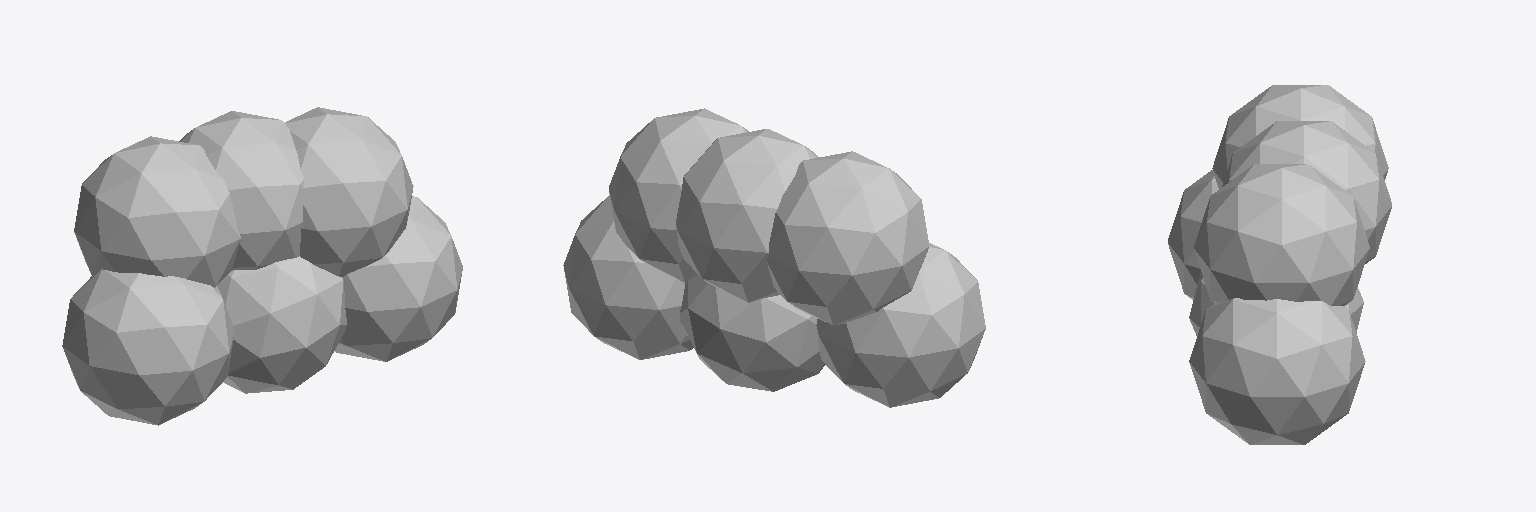
Rendered from cloud.obj.
3 renders of one model, left to right at view 1: azimuth 30°, elevation 25°; view 2: azimuth 150°, elevation 25°; view 3: azimuth 270°, elevation 25°, orthographic.
Parts seen in each view (by area): view 1: Icosphere, Icosphere.001, Icosphere.004, Icosphere.005, Icosphere.002, Icosphere.003; view 2: Icosphere.001, Icosphere, Icosphere.003, Icosphere.002, Icosphere.004, Icosphere.005; view 3: Icosphere.002, Icosphere.004, Icosphere.003, Icosphere.001, Icosphere, Icosphere.005.
Part boxes in pixels (left/top/right/bottom): Icosphere: left=62, top=269, right=233, bottom=425; Icosphere.001: left=74, top=136, right=240, bottom=287; Icosphere.004: left=285, top=107, right=413, bottom=276; Icosphere.005: left=217, top=256, right=346, bottom=393; Icosphere.002: left=335, top=196, right=462, bottom=361; Icosphere.003: left=179, top=111, right=303, bottom=270; Icosphere.001: left=767, top=151, right=928, bottom=325; Icosphere: left=816, top=243, right=985, bottom=407; Icosphere.003: left=676, top=129, right=818, bottom=302; Icosphere.002: left=563, top=195, right=693, bottom=359; Icosphere.004: left=609, top=108, right=748, bottom=282; Icosphere.005: left=680, top=275, right=825, bottom=391; Icosphere.002: left=1189, top=298, right=1365, bottom=444; Icosphere.004: left=1194, top=164, right=1369, bottom=305; Icosphere.003: left=1222, top=121, right=1391, bottom=263; Icosphere.001: left=1212, top=85, right=1388, bottom=188; Icosphere: left=1168, top=170, right=1218, bottom=299; Icosphere.005: left=1189, top=272, right=1363, bottom=335.
Size of the model in its own units: 5.03 by 3.24 by 2.55.